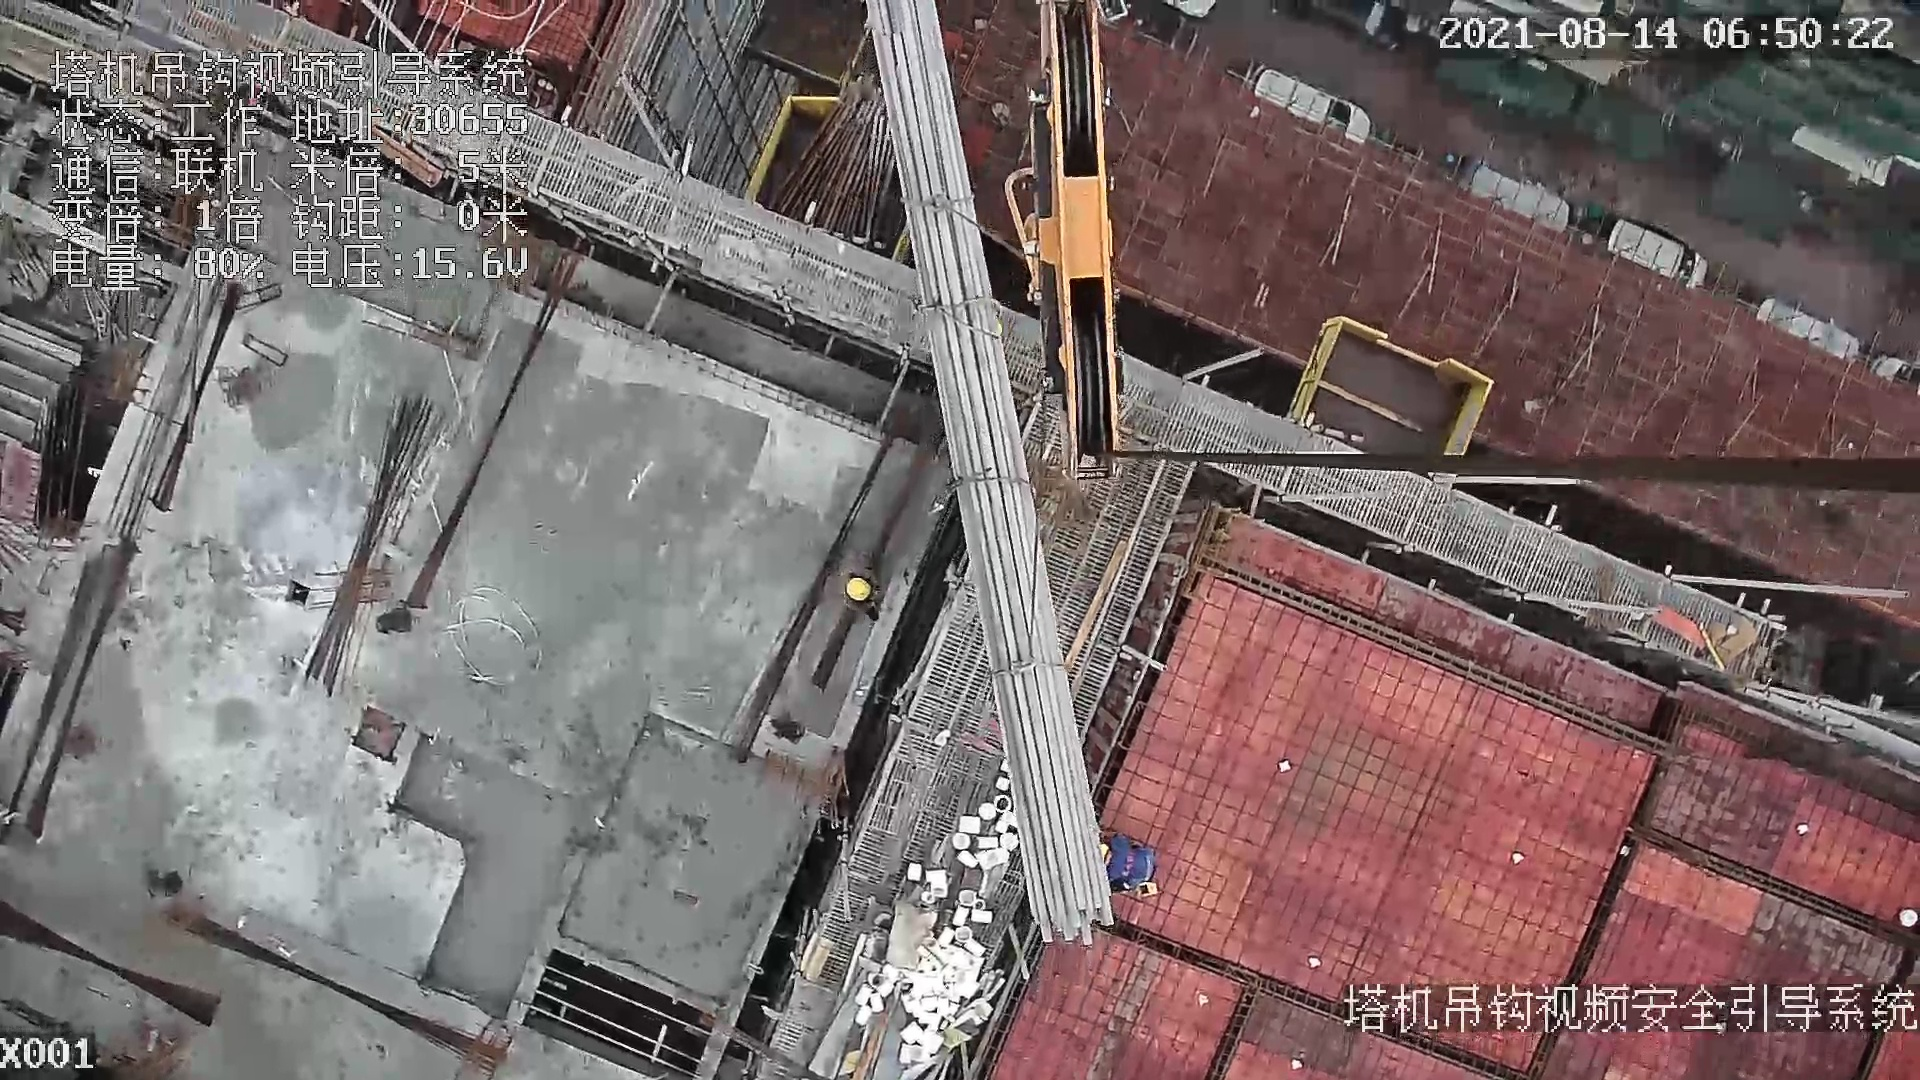helmet: (842, 576, 878, 607)
hook: (996, 1, 1132, 486)
person: (1092, 827, 1154, 903), (838, 572, 885, 619)
